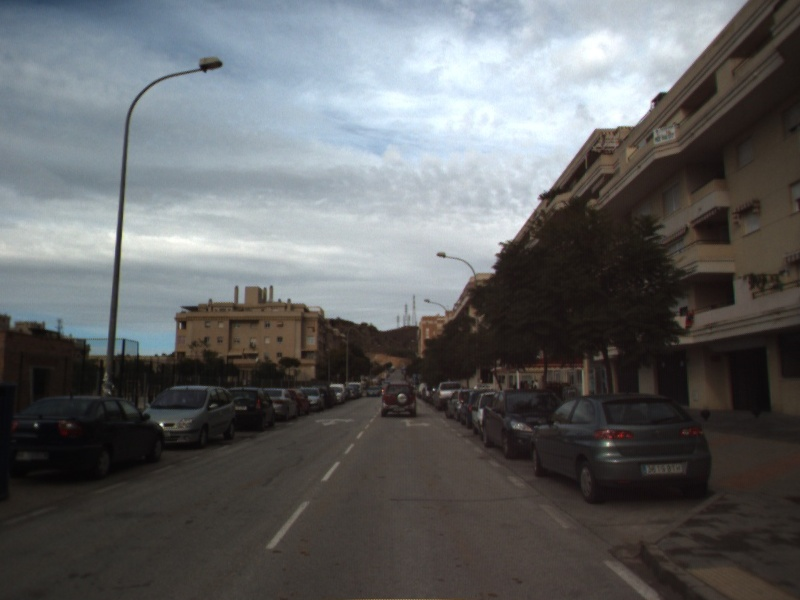STRAIGHT_RIGHT: (399, 416, 433, 429)
